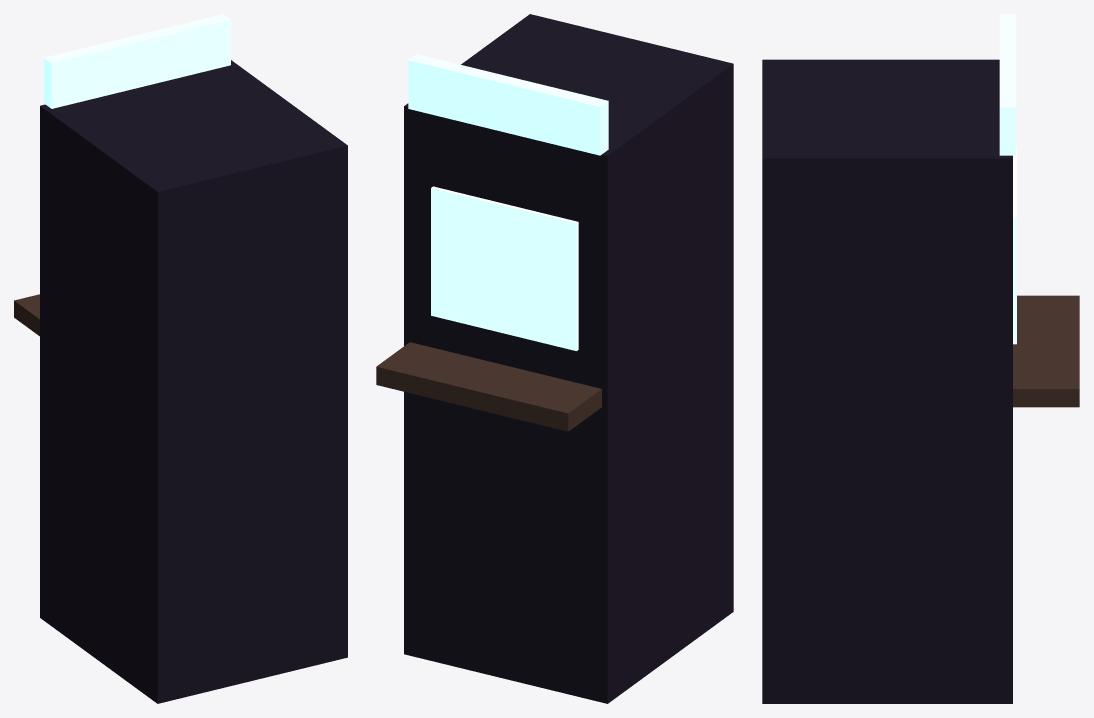
The model's file is arcade.glb.
The picture shows the model from 3 angles, left to right: view 1: azimuth 30°, elevation 25°; view 2: azimuth 150°, elevation 25°; view 3: azimuth 270°, elevation 25°; orthographic projection. The views are drawn at different scales.
Visible parts, largest first — view 1: Box1, Box3, Box4; view 2: Box1, Box2, Box3, Box4; view 3: Box1, Box4, Box3, Box2.
Part boxes in pixels (x1=…): Box1: x1=40, y1=60, x2=347, y2=703; Box3: x1=44, y1=14, x2=230, y2=108; Box4: x1=14, y1=294, x2=39, y2=336; Box1: x1=404, y1=14, x2=733, y2=703; Box2: x1=431, y1=186, x2=578, y2=350; Box3: x1=408, y1=54, x2=608, y2=155; Box4: x1=376, y1=342, x2=601, y2=431; Box1: x1=762, y1=59, x2=1012, y2=703; Box4: x1=1013, y1=295, x2=1079, y2=407; Box3: x1=999, y1=14, x2=1016, y2=155; Box2: x1=1013, y1=146, x2=1016, y2=344.
Bounding box in the file's own units: 0.7 × 1.96 × 0.95.
